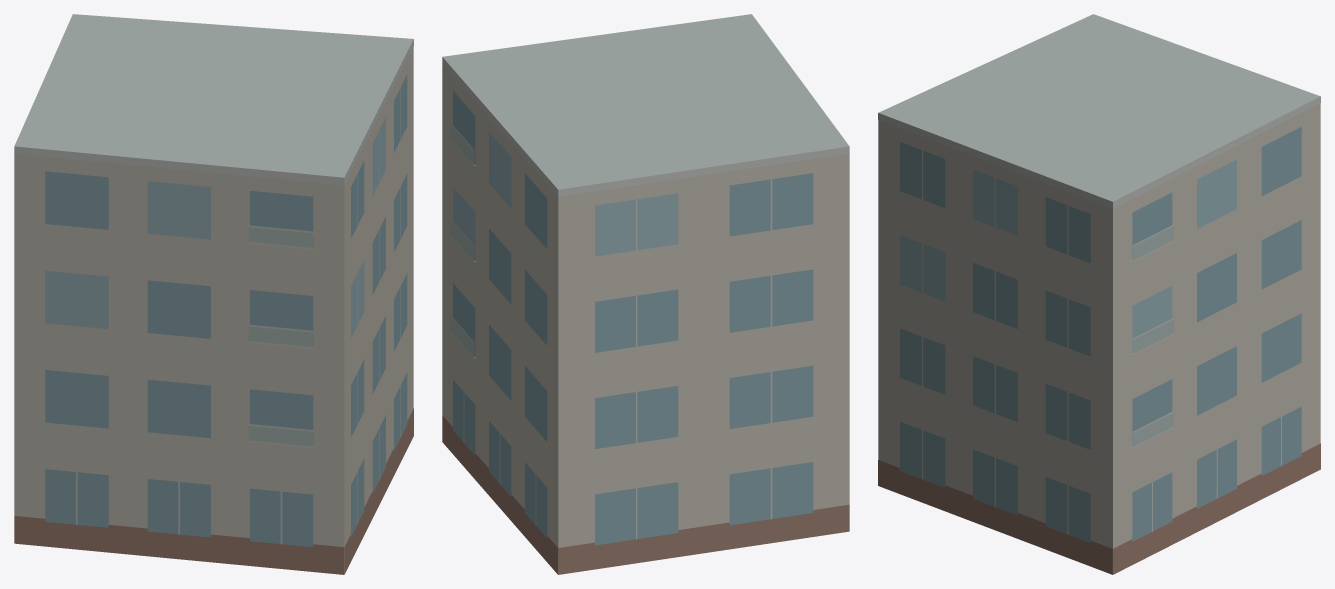
Rendered from survey-upis-32995097.glb.
The picture shows the model from 3 angles, left to right: view 1: azimuth 30°, elevation 25°; view 2: azimuth 150°, elevation 25°; view 3: azimuth 270°, elevation 25°; orthographic projection. The views are drawn at different scales.
Visible parts, largest first — view 1: survey-upis-32995097.tmp; view 2: survey-upis-32995097.tmp; view 3: survey-upis-32995097.tmp.
Part boxes in pixels (left/top/right/bottom): survey-upis-32995097.tmp: left=14, top=14, right=413, bottom=574; survey-upis-32995097.tmp: left=442, top=14, right=849, bottom=574; survey-upis-32995097.tmp: left=878, top=14, right=1320, bottom=574.
Size of the model in its own units: 13.93 by 12.9 by 13.88.
